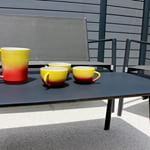cups: (38, 66, 70, 90), (72, 65, 102, 86)
